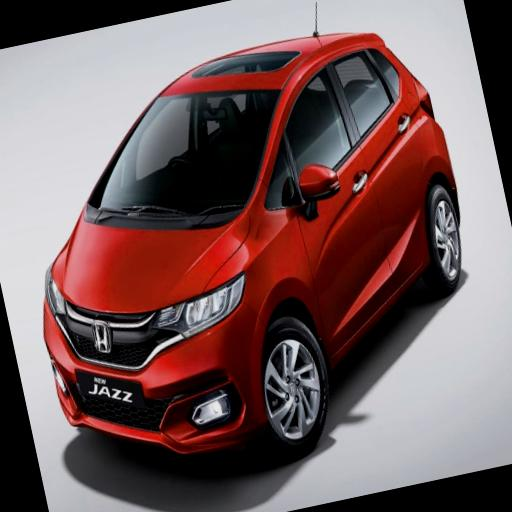hatchback: (43, 25, 460, 459)
